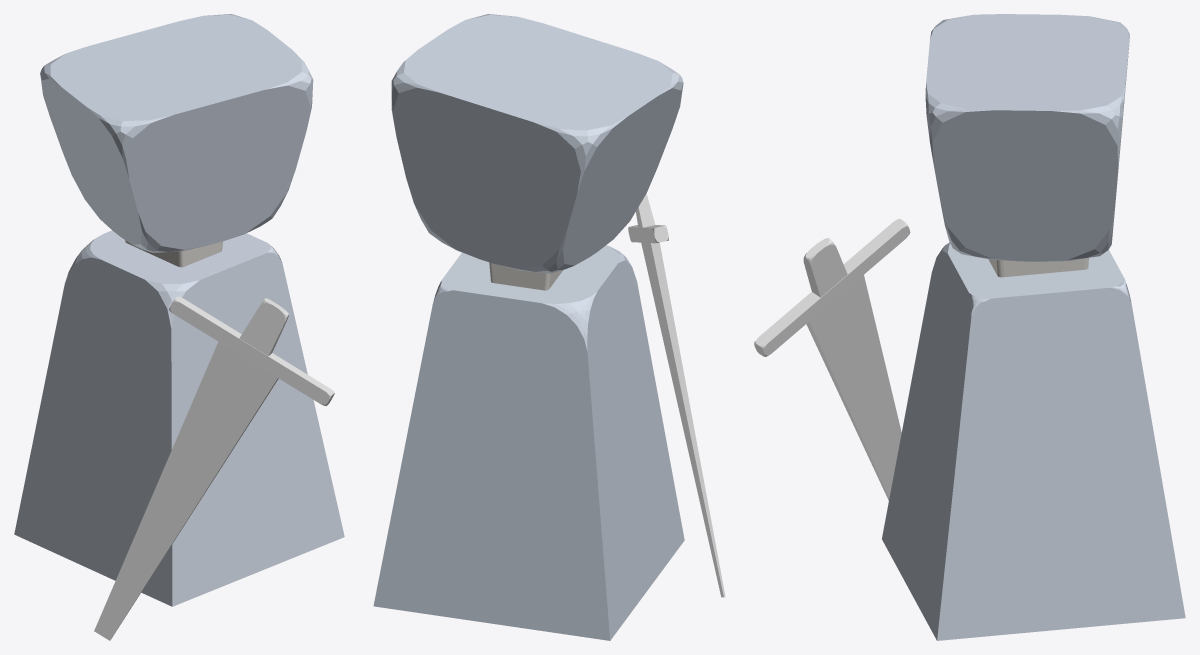
The model's file is 光小人.fbx.
The picture shows the model from 3 angles, left to right: view 1: azimuth 30°, elevation 25°; view 2: azimuth 150°, elevation 25°; view 3: azimuth 270°, elevation 25°; orthographic projection. The views are drawn at different scales.
Parts seen in each view (by area): view 1: 立方体.009; view 2: 立方体.009; view 3: 立方体.009.
Boxes of the visible parts, x1,y1,x2,y2 form: 立方体.009: (14, 14, 344, 640); 立方体.009: (373, 14, 725, 640); 立方体.009: (754, 14, 1185, 640).
Size of the model in its own units: 175 by 333 by 234.
